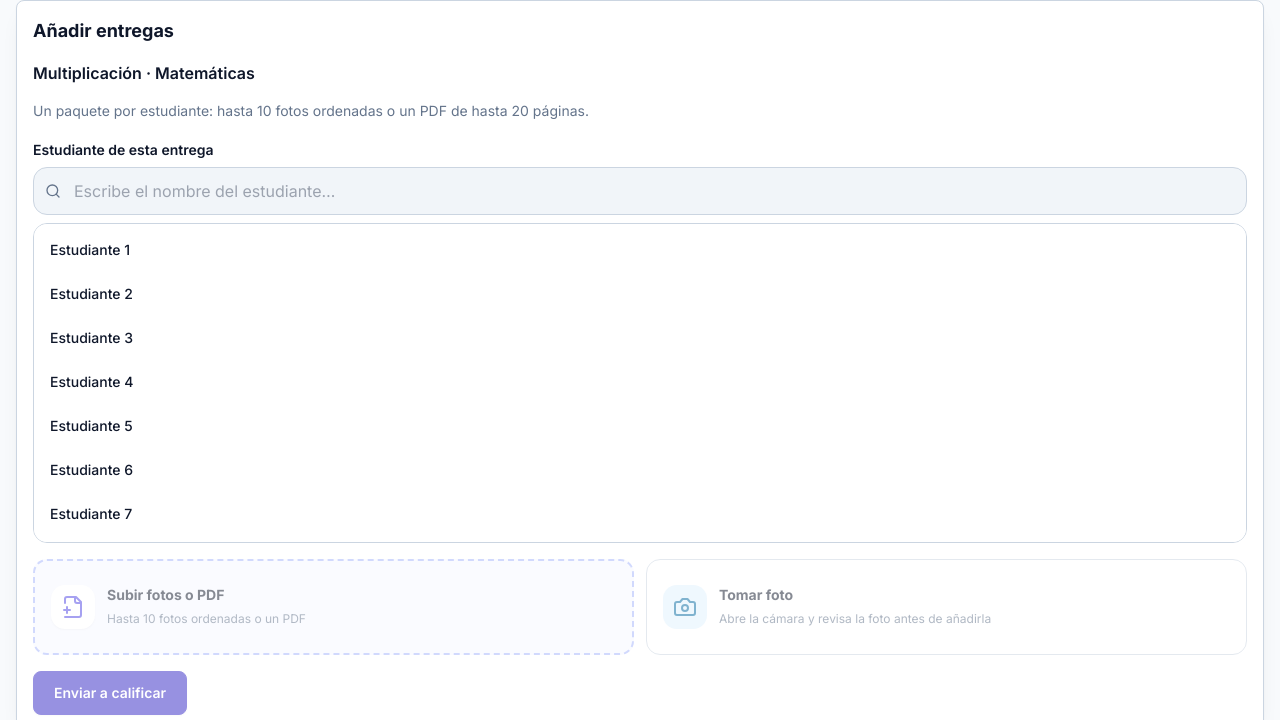
Test: GradingUploadPanel student picker › shows a clear empty state instead of an unusable select
In the dropdown named "buscar estudiante": x=640, y=191 [33, 167, 1247, 215], type "nombre inexistente"
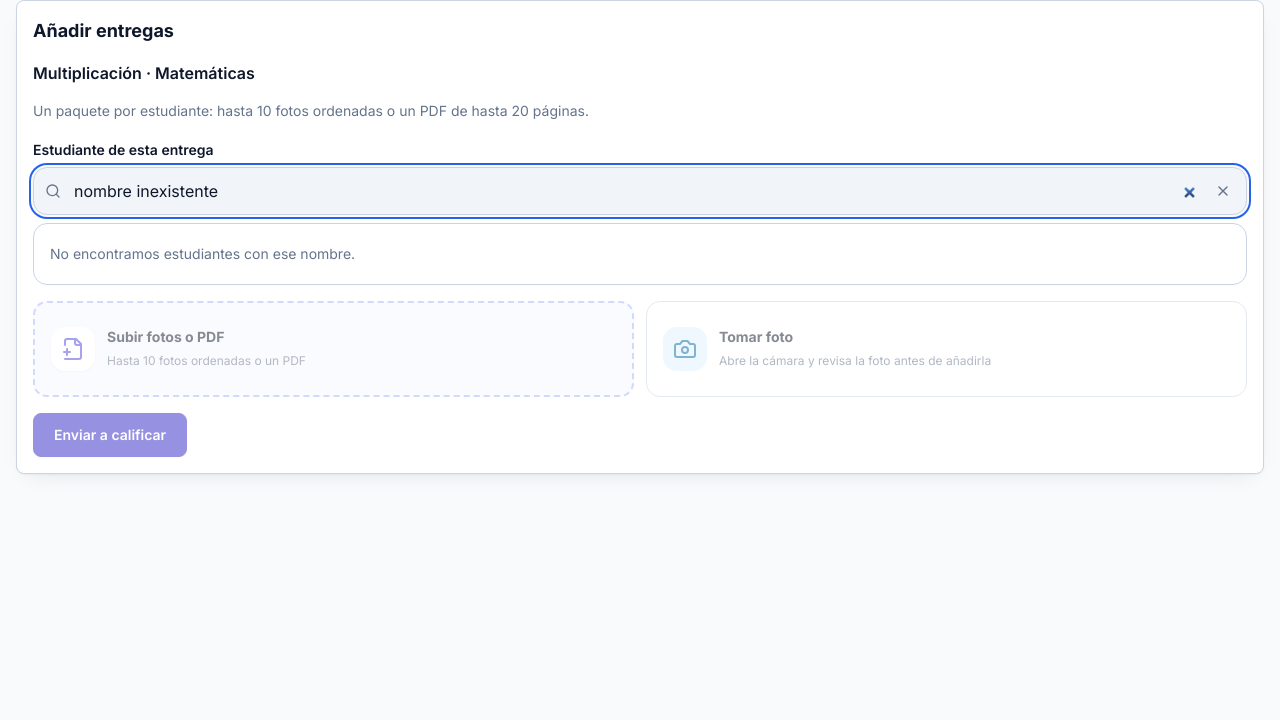
Now the text "No encontramos estudiantes con ese nombre." is shown, box [50, 245, 355, 262]
